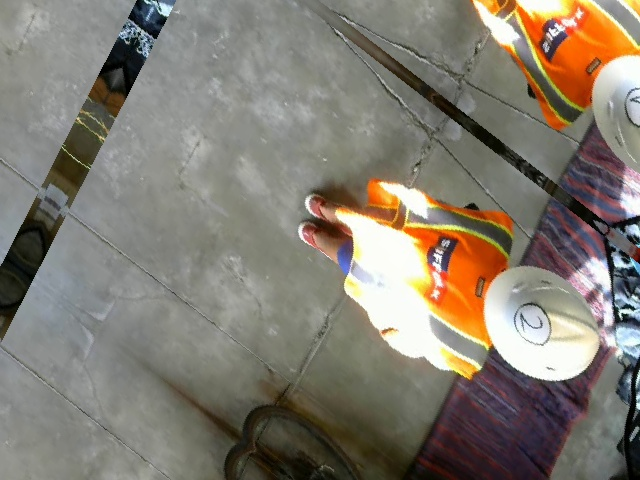two: (507, 295, 558, 354)
